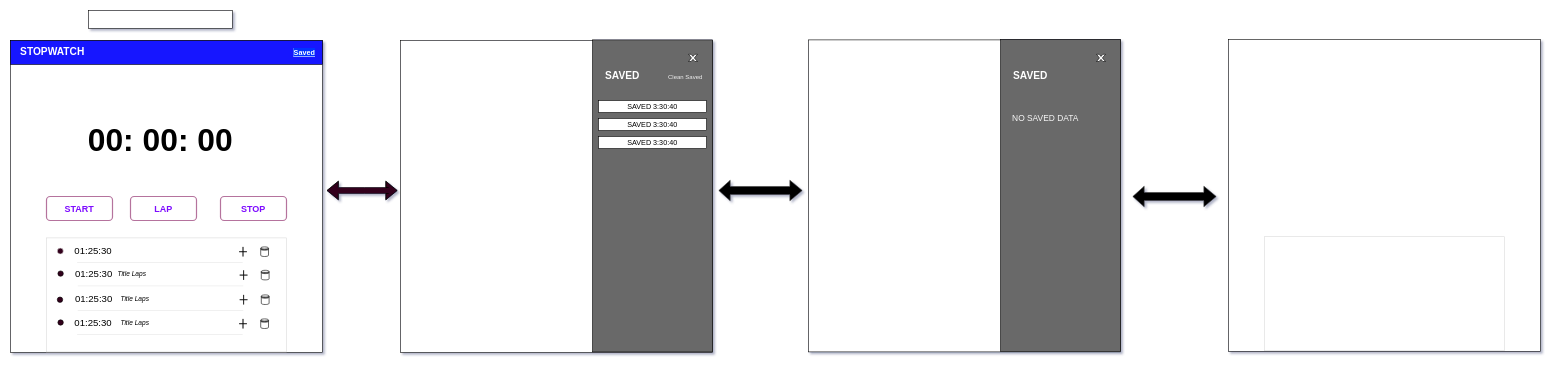
The diagram is 1555 pixels wide and 367 high, and some of its shapes have lost their labels. Each missing label, with the centre of its shape:
"My Application" goes at pixel 160 19.
"NO LAPS YET" goes at pixel 1384 293.
